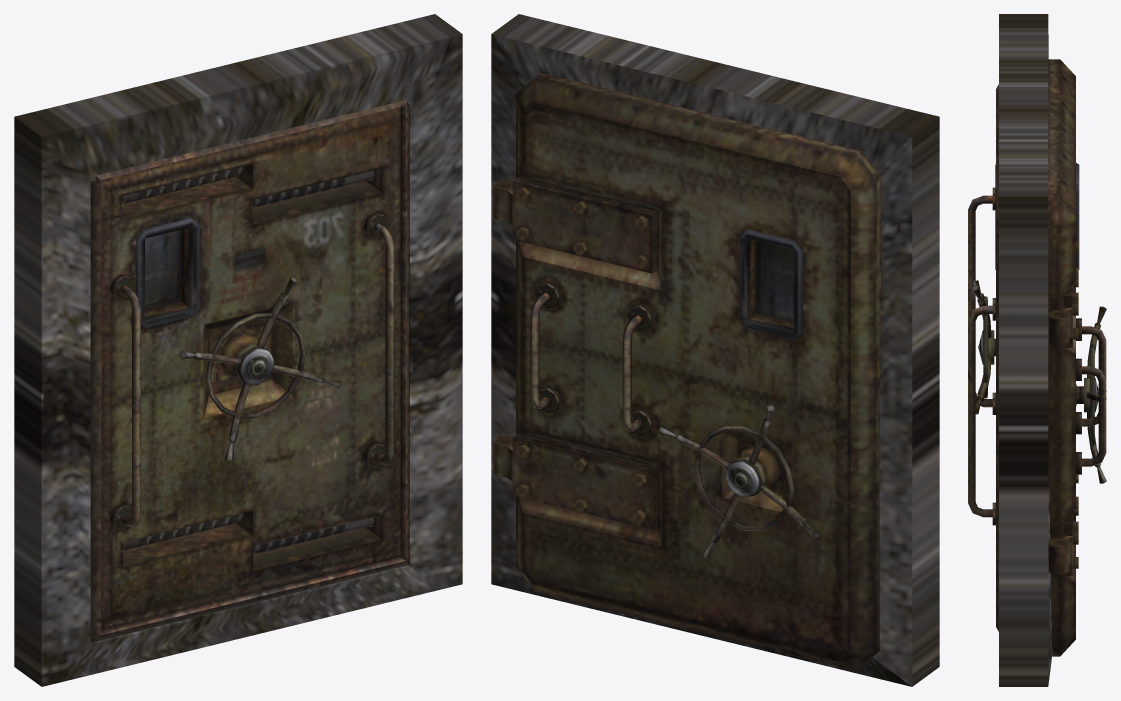
The model's file is door_bunker_close.obj.
The picture shows the model from 3 angles, left to right: view 1: azimuth 30°, elevation 25°; view 2: azimuth 150°, elevation 25°; view 3: azimuth 270°, elevation 25°; orthographic projection. The views are drawn at different scales.
Parts seen in each view (by area): view 1: OGFObject0, Plane; view 2: OGFObject0, Plane; view 3: Plane, OGFObject0.
Boxes of the visible parts, <box> form: OGFObject0: <box>90,99,409,642</box>; Plane: <box>14,14,462,686</box>; OGFObject0: <box>493,73,881,670</box>; Plane: <box>491,14,939,686</box>; Plane: <box>999,14,1052,686</box>; OGFObject0: <box>968,59,1106,656</box>.
Size of the model in its own units: 2 by 2.5 by 0.6414.
